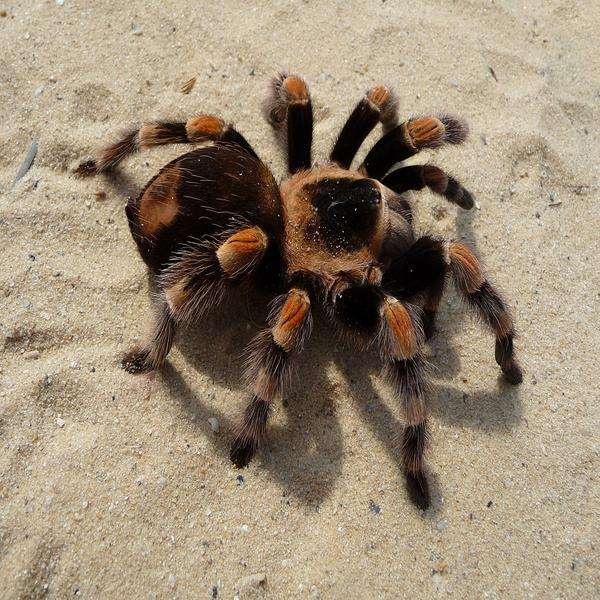Tarantula Spider: (114, 82, 522, 499)
